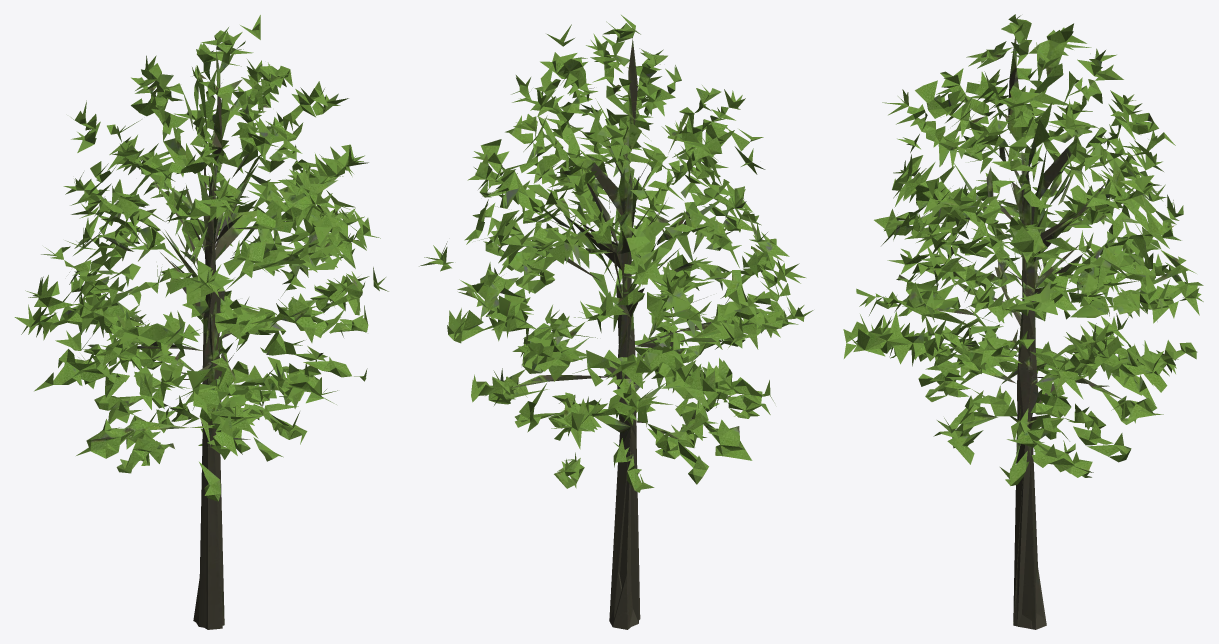
Rendered from pohon.glb.
3 renders of one model, left to right at view 1: azimuth 30°, elevation 25°; view 2: azimuth 150°, elevation 25°; view 3: azimuth 270°, elevation 25°, orthographic. The views are drawn at different scales.
Bounding box in the file's own units: 1.13 × 1.9 × 1.01.
1 material, 1 textured.
